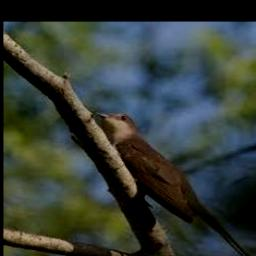Cuckoo: (95, 111, 254, 256)
